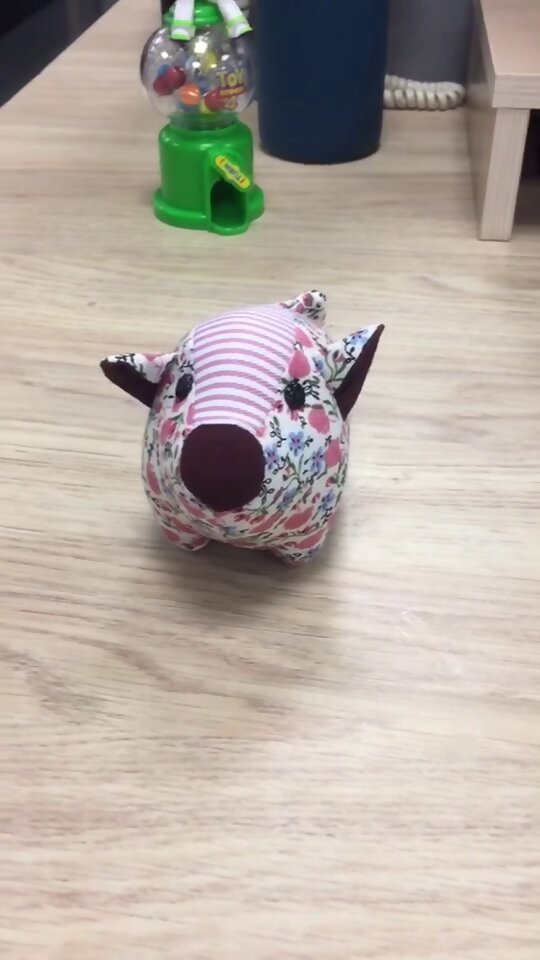pig: (97, 285, 386, 570)
